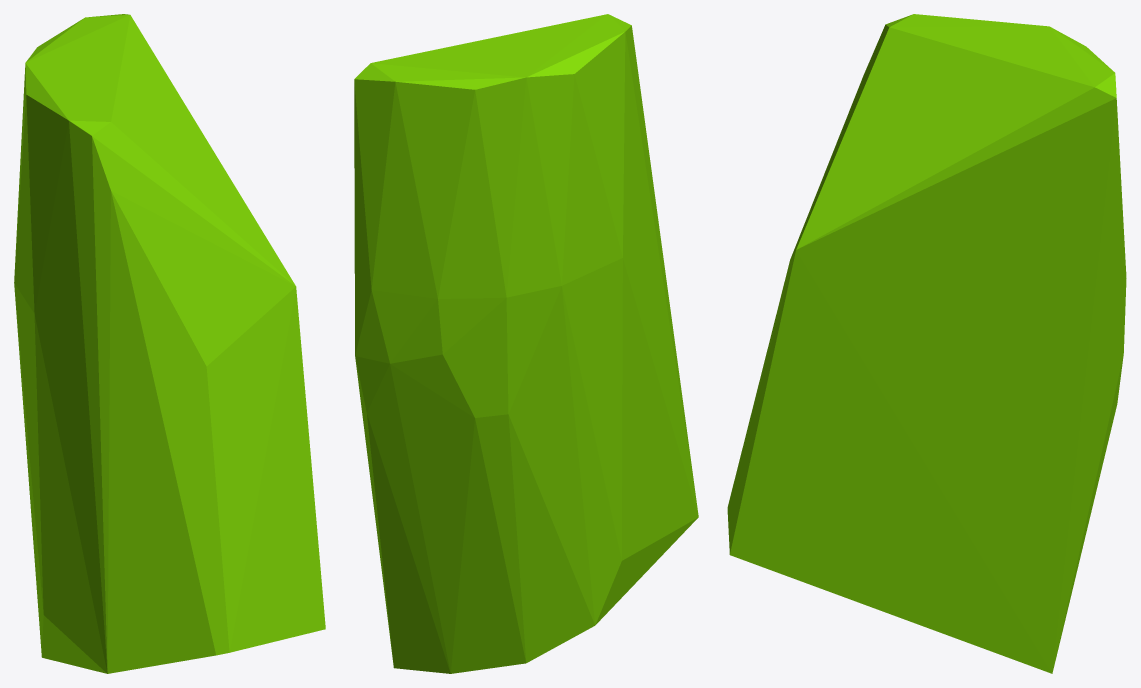
Rendered from arm-L2-mirror_convex_piece_001.obj.
3 views of the same model, side by side, from view 1: azimuth 30°, elevation 25°; view 2: azimuth 150°, elevation 25°; view 3: azimuth 270°, elevation 25° (orthographic). The views are drawn at different scales.
Size of the model in its own units: 0.0461 by 0.146 by 0.0898.
